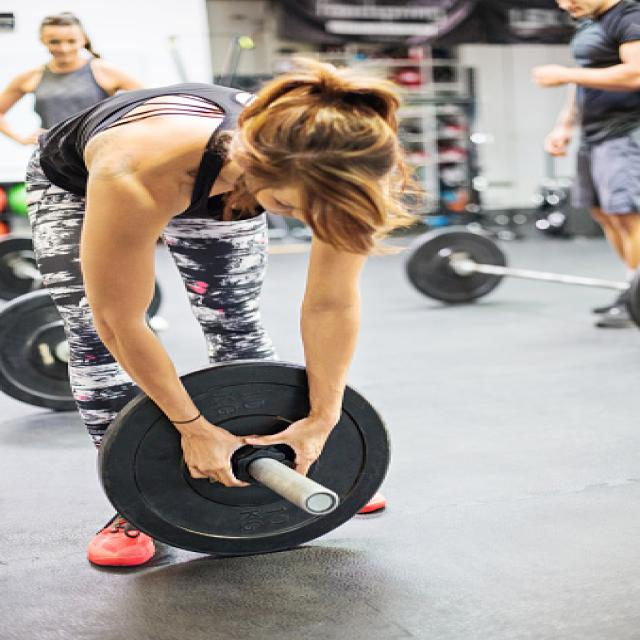barbell_plate_side: (94, 358, 168, 556), (317, 358, 391, 556)
